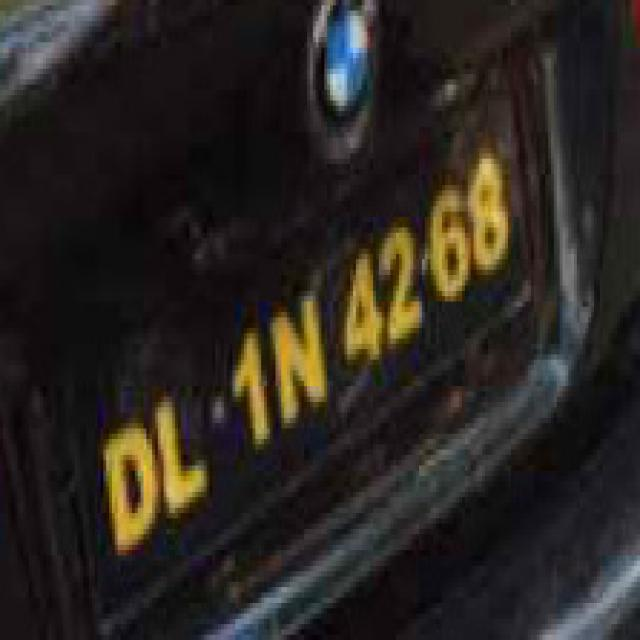1: (225, 314, 277, 472)
4: (340, 233, 388, 393)
6: (426, 165, 478, 323)
8: (468, 135, 517, 288)
D: (96, 399, 168, 575)
L: (150, 375, 217, 540)
N: (267, 268, 337, 451)
